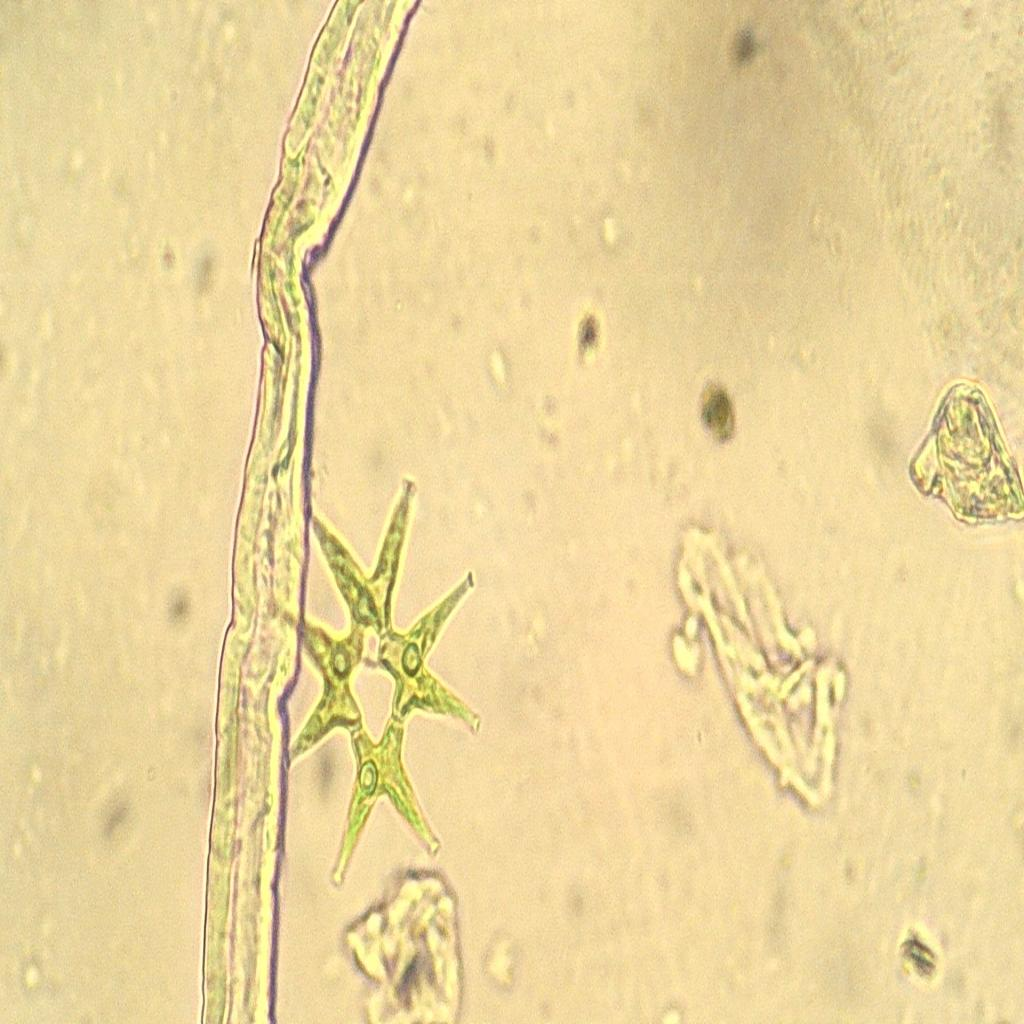Pediastrum_CF: (257, 460, 512, 900)
